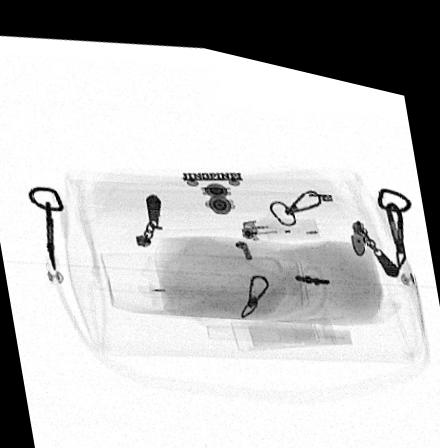Lighter: (240, 203, 321, 228)
